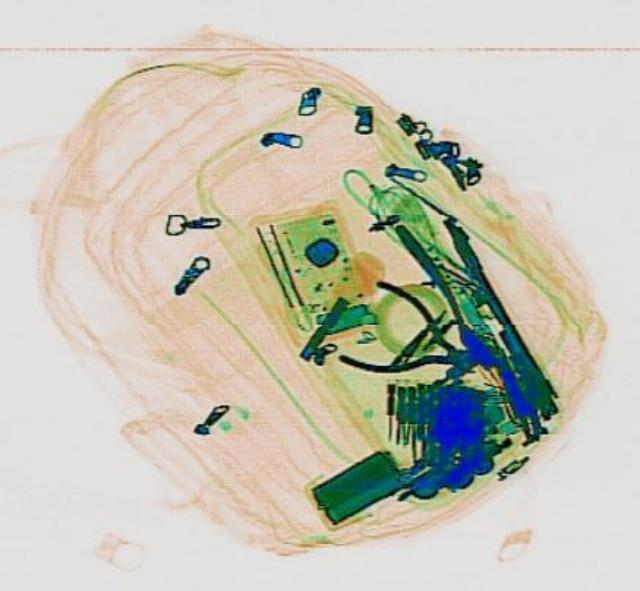Pliers: (334, 276, 496, 403)
